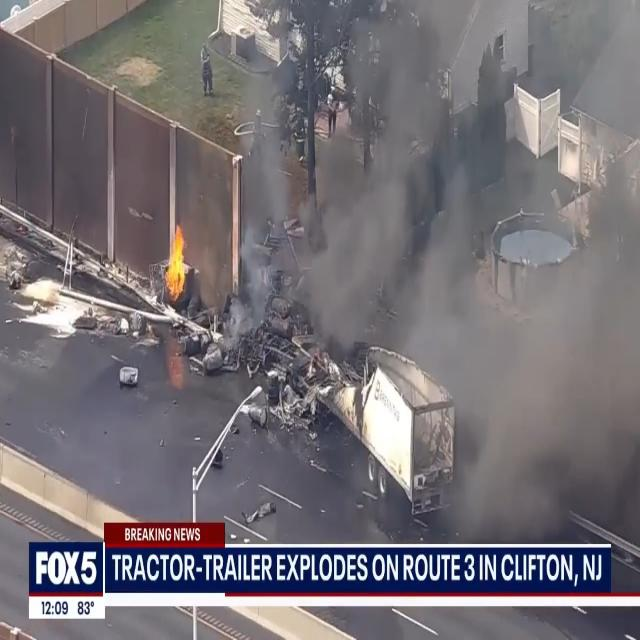fire: (157, 217, 193, 306)
